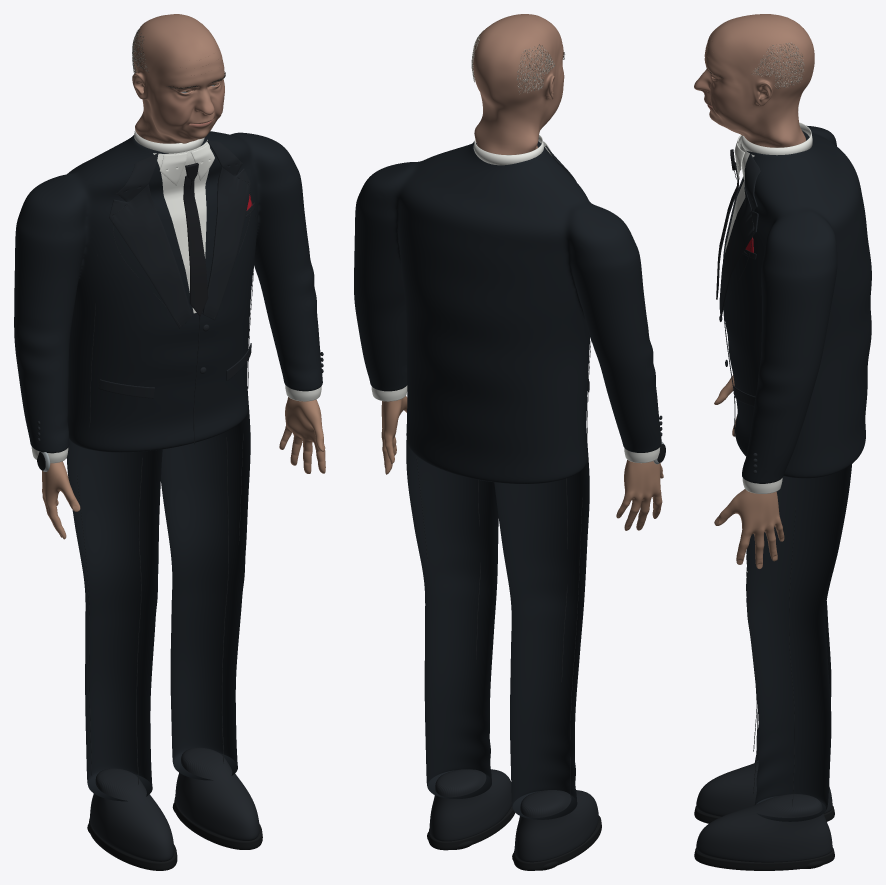
File: kevin.glb
3 views of the same model, side by side, from view 1: azimuth 30°, elevation 25°; view 2: azimuth 150°, elevation 25°; view 3: azimuth 270°, elevation 25° (orthographic).
Visible parts, largest first — view 1: Suit | textured black worsted, Suit | softly rolled lapels, Shoes | polished black leather, Skin anatomy, Shirt | ivory cotton, Skin | mature warm tone, Tie | woven black silk, Shoes | dark sole, Suit | fine charcoal seams; view 2: Suit | textured black worsted, Skin anatomy, Shoes | polished black leather, Skin | mature warm tone, Shoes | dark sole, Shirt | ivory cotton, Suit | fine charcoal seams; view 3: Suit | textured black worsted, Skin anatomy, Shoes | polished black leather, Skin | mature warm tone, Suit | softly rolled lapels, Shirt | ivory cotton, Shoes | dark sole, Suit | fine charcoal seams, Tie | woven black silk, Natural gray hair.002.
Part boxes in pixels (x1,y1,x2,y2): Suit | textured black worsted: (14, 131, 322, 801); Suit | softly rolled lapels: (98, 140, 254, 444); Shoes | polished black leather: (37, 324, 323, 861); Skin anatomy: (132, 14, 224, 143); Shirt | ivory cotton: (31, 129, 321, 463); Skin | mature warm tone: (42, 397, 325, 539); Tie | woven black silk: (37, 163, 208, 470); Shoes | dark sole: (87, 180, 262, 870); Suit | fine charcoal seams: (77, 177, 256, 784); Suit | textured black worsted: (354, 141, 661, 819); Skin anatomy: (471, 14, 564, 154); Shoes | polished black leather: (429, 415, 662, 862); Skin | mature warm tone: (381, 396, 663, 530); Shoes | dark sole: (427, 805, 601, 870); Shirt | ivory cotton: (371, 134, 659, 463); Suit | fine charcoal seams: (416, 340, 591, 797); Suit | textured black worsted: (724, 125, 871, 821); Skin anatomy: (694, 14, 814, 147); Shoes | polished black leather: (696, 315, 832, 862); Skin | mature warm tone: (714, 375, 784, 568); Suit | softly rolled lapels: (719, 153, 760, 436); Shirt | ivory cotton: (725, 122, 812, 493); Shoes | dark sole: (694, 170, 834, 870); Suit | fine charcoal seams: (720, 211, 795, 806); Tie | woven black silk: (716, 149, 738, 299); Natural gray hair.002: (753, 43, 804, 87).
Bounding box in the file's own units: 0.6507 × 1.74 × 0.3413.
